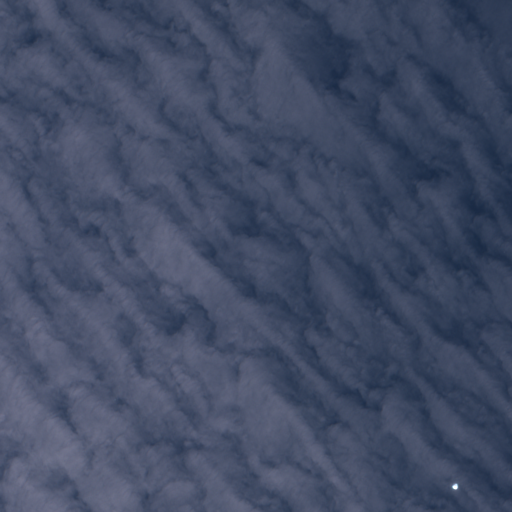Iceberg: (452, 483, 458, 489)
